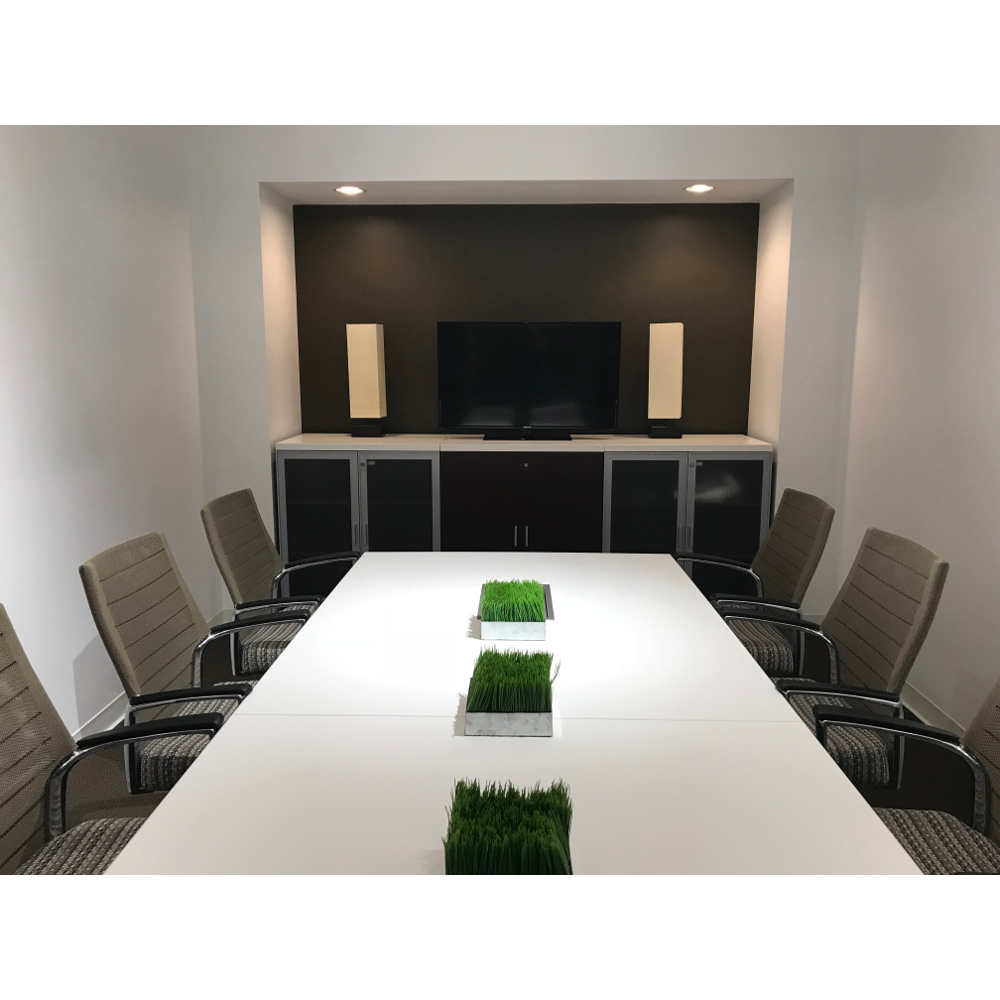conference_table: (98, 552, 925, 875)
